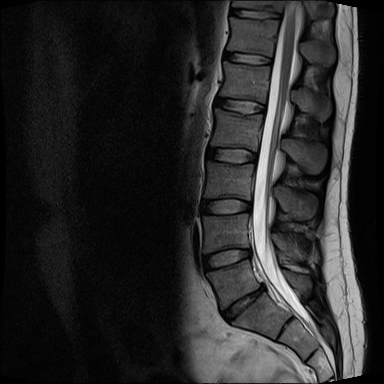Lumbar Disc Bulge (LDB): (219, 279, 270, 331)
Normal IVD: (196, 240, 256, 278), (200, 139, 261, 170), (216, 43, 277, 69), (193, 195, 255, 220), (210, 91, 269, 117), (225, 5, 285, 23)
Spinal Stenosis (SS): (249, 275, 278, 309)
